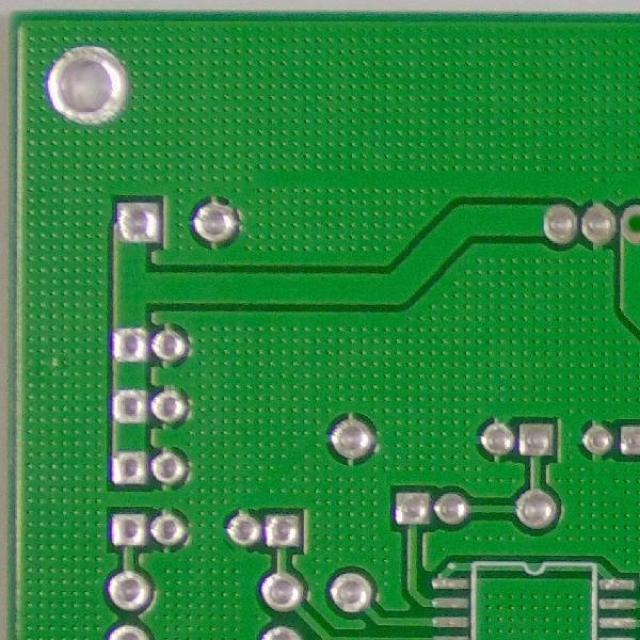Missing_Hole: (617, 203, 640, 246)
